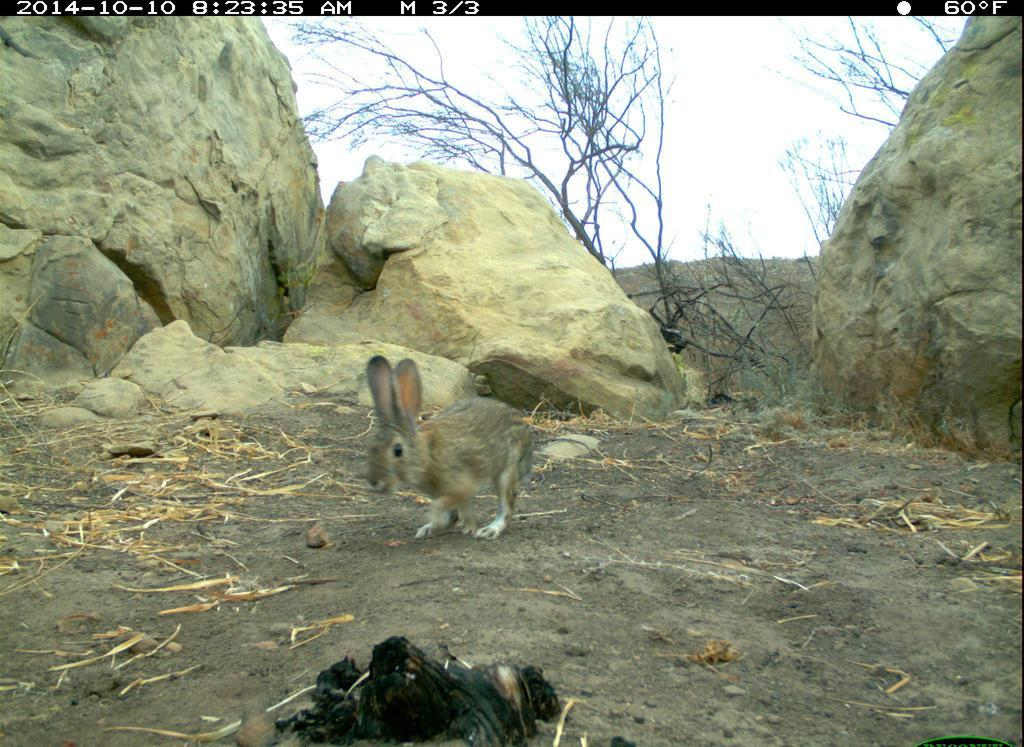rabbit: (356, 344, 555, 556)
